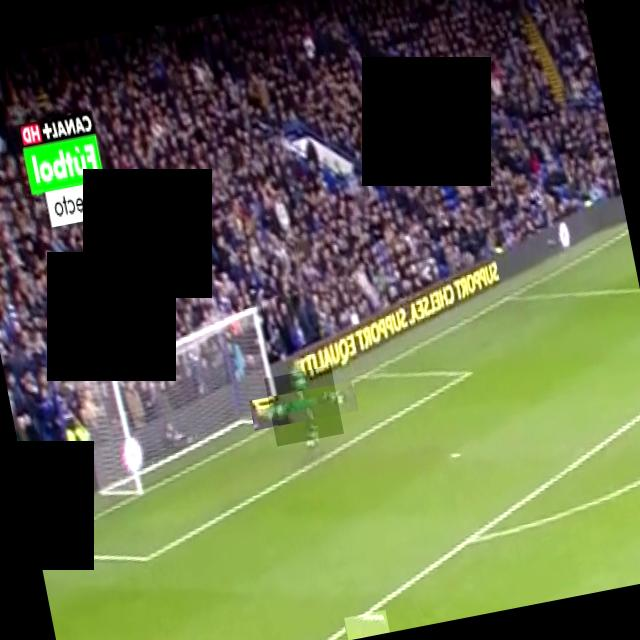goalkeeper: (264, 366, 344, 446)
soccer-player: (344, 609, 390, 640)
